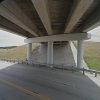Bridge: (1, 3, 97, 66)
